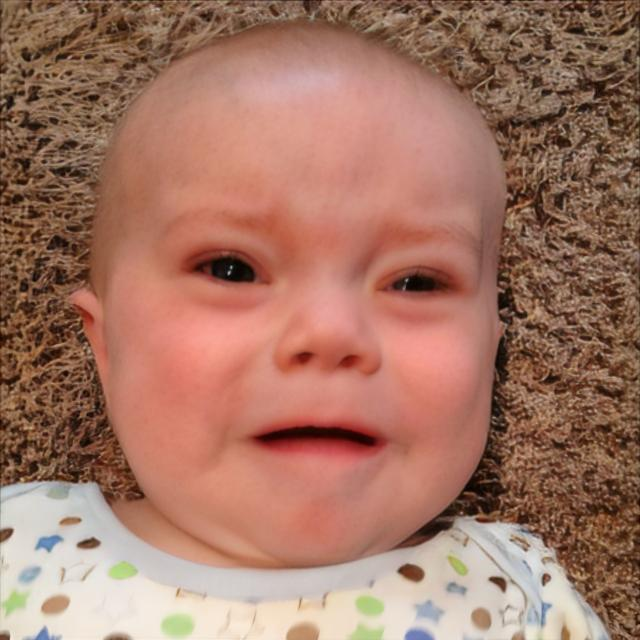sad: (90, 26, 512, 570)
